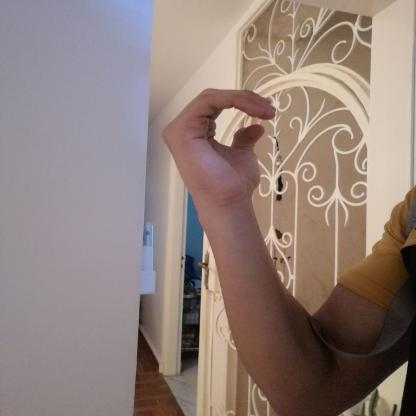JEEM: (150, 80, 284, 212)
